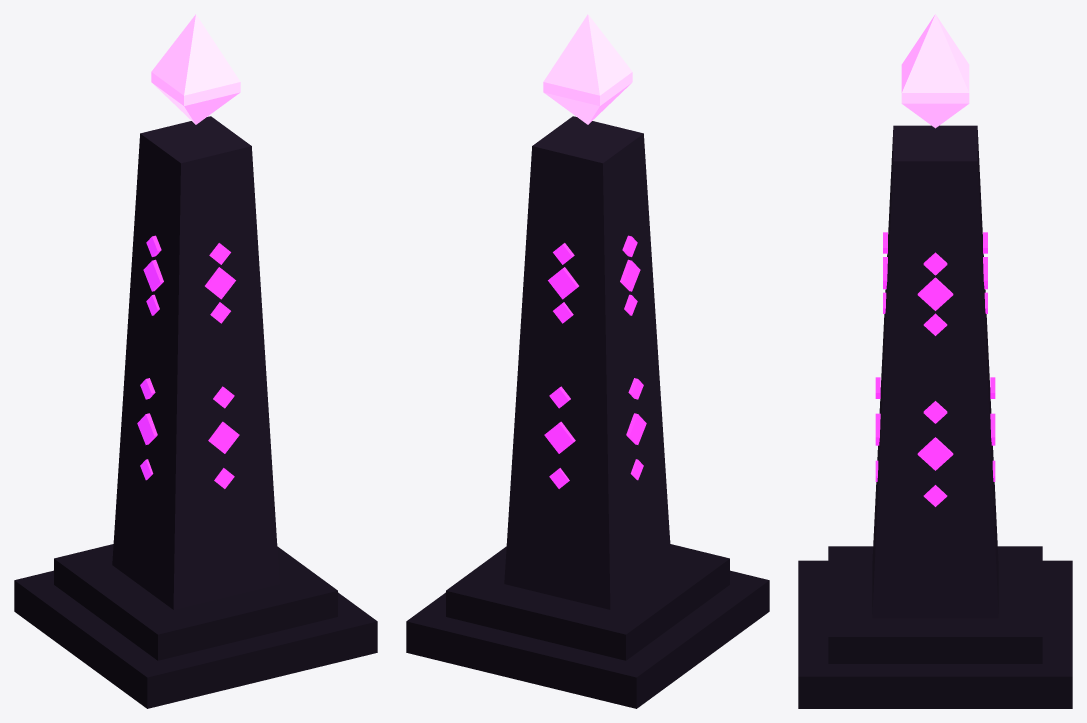
Rendered from Void_Obelisk.glb.
3 renders of one model, left to right at view 1: azimuth 30°, elevation 25°; view 2: azimuth 150°, elevation 25°; view 3: azimuth 270°, elevation 25°, orthographic. The views are drawn at different scales.
Visible parts, largest first — view 1: Obelisk, Steps, Capstone, Runes; view 2: Obelisk, Steps, Capstone, Runes; view 3: Obelisk, Steps, Capstone, Runes.
Part boxes in pixels (x1,y1,x2,y2): Obelisk: (112,116,279,609); Steps: (14,544,377,708); Capstone: (151,14,240,124); Runes: (137,235,239,488); Obelisk: (504,116,671,609); Steps: (406,544,769,708); Capstone: (543,14,632,124); Runes: (544,235,646,488); Obelisk: (872,125,998,618); Steps: (798,546,1072,708); Capstone: (901,14,969,128); Runes: (875,232,995,506).
Size of the model in its own units: 4.6 by 11.8 by 4.6.
